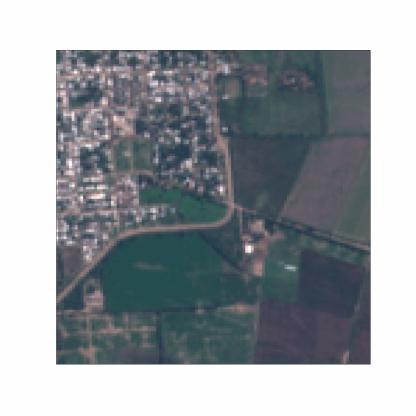silobolsa: (282, 261, 300, 273)
